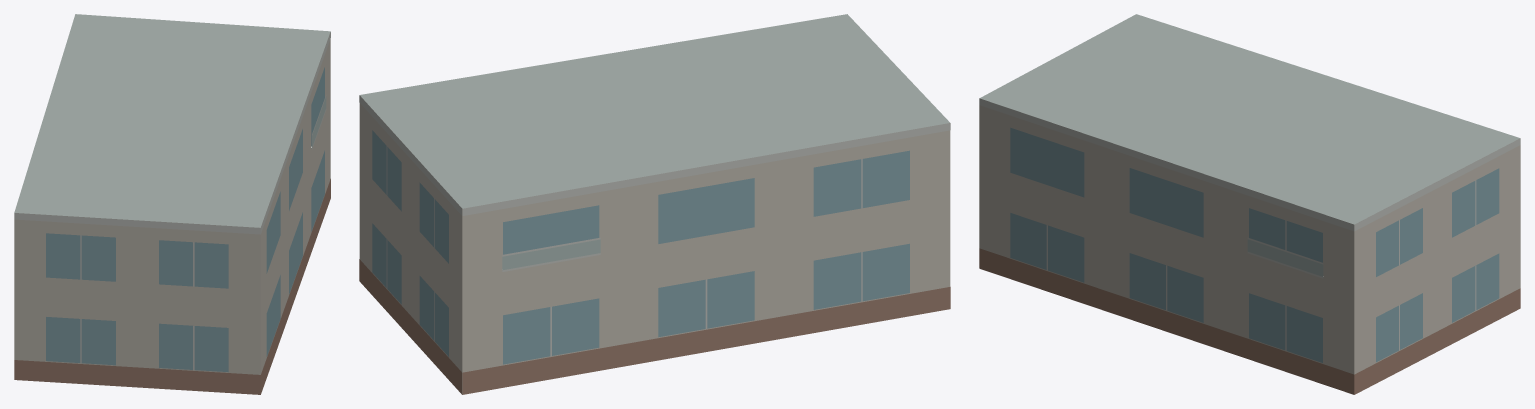
File: survey-upis-32890913.glb
3 views of the same model, side by side, from view 1: azimuth 30°, elevation 25°; view 2: azimuth 150°, elevation 25°; view 3: azimuth 270°, elevation 25° (orthographic). The views are drawn at different scales.
Parts seen in each view (by area): view 1: survey-upis-32890913.tmp; view 2: survey-upis-32890913.tmp; view 3: survey-upis-32890913.tmp.
Boxes of the visible parts, x1,y1,x2,y2 form: survey-upis-32890913.tmp: (14,14,330,394); survey-upis-32890913.tmp: (359,14,950,394); survey-upis-32890913.tmp: (979,14,1520,394).
Bounding box in the file's own units: 16.19 × 6.1 × 17.58.
